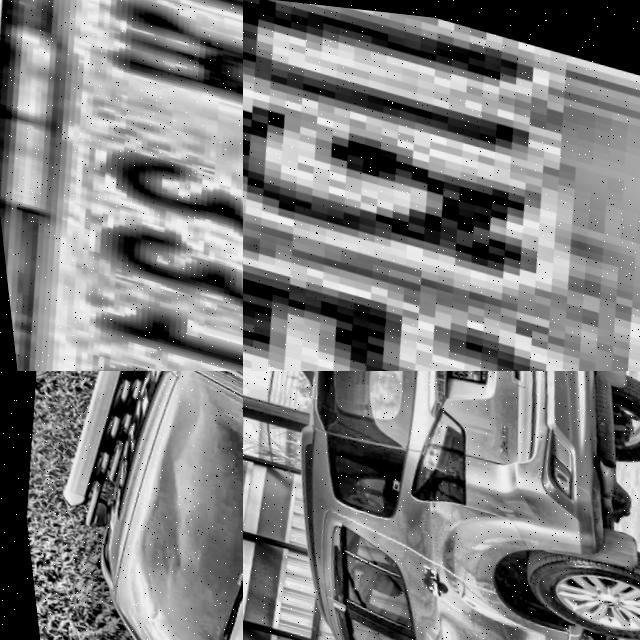license-plate: (243, 0, 640, 371), (0, 0, 243, 371)
